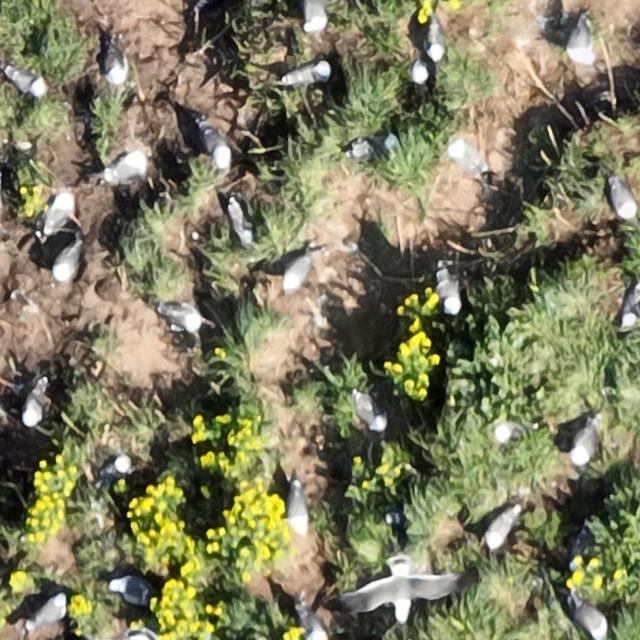F: (331, 565, 470, 625)
umineko: (42, 189, 78, 241), (562, 18, 599, 66), (104, 152, 146, 188), (574, 601, 608, 638), (487, 508, 517, 548), (354, 395, 386, 430), (160, 304, 203, 330), (203, 125, 230, 164), (32, 598, 67, 628), (571, 422, 597, 462), (284, 61, 327, 84), (611, 181, 637, 219), (111, 577, 148, 603), (284, 256, 313, 289), (438, 272, 460, 314), (54, 244, 79, 280), (299, 609, 328, 640), (8, 70, 42, 96), (287, 483, 306, 526), (493, 418, 530, 440), (229, 203, 249, 243), (353, 134, 393, 154), (106, 46, 126, 84), (22, 390, 42, 427), (102, 456, 132, 480), (302, 2, 326, 31), (428, 24, 446, 61), (623, 283, 639, 321), (410, 56, 430, 82)
